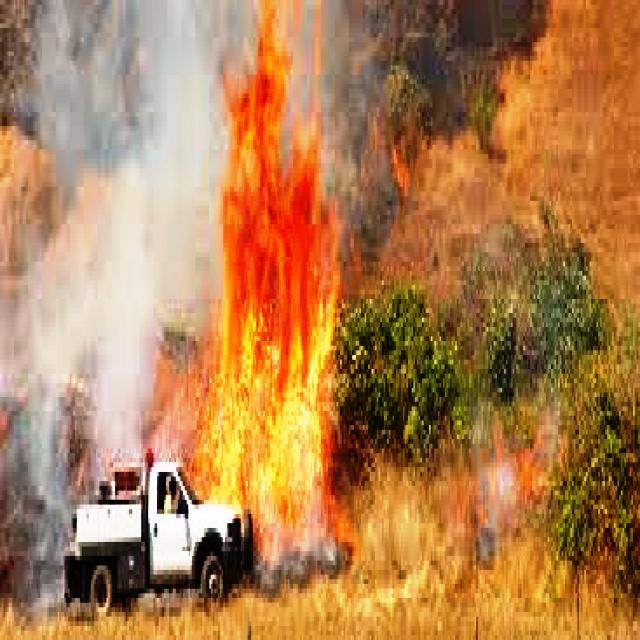api: (183, 15, 359, 585), (447, 417, 559, 562), (376, 123, 439, 226)
